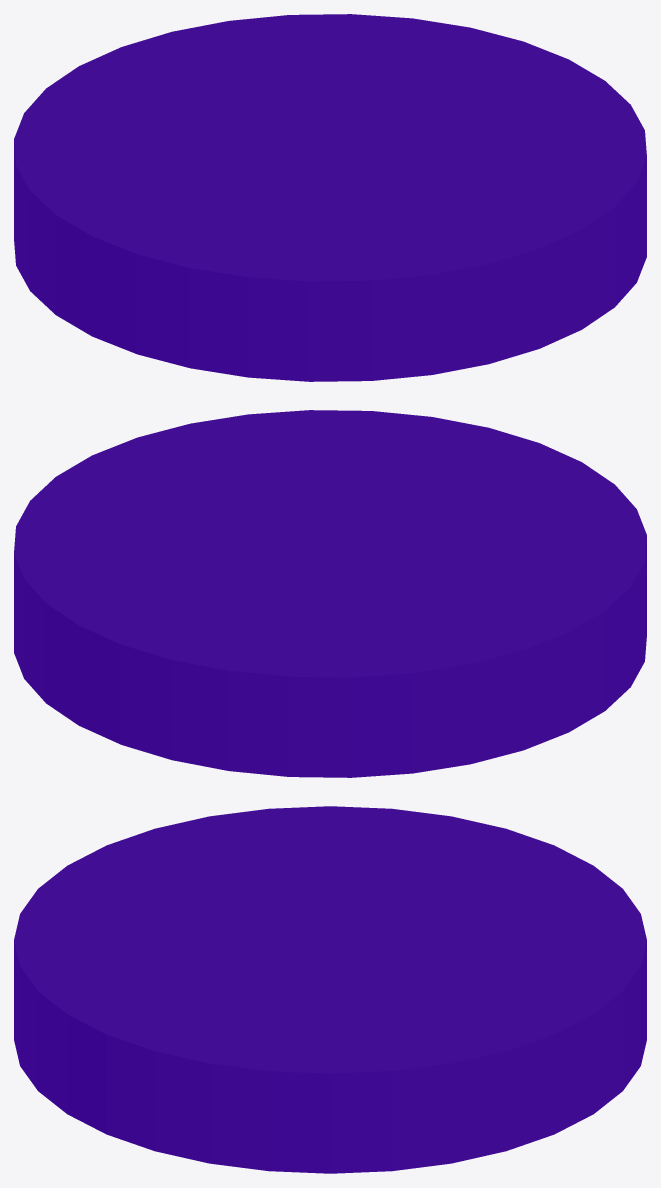
The model's file is map3.glb.
The picture shows the model from 3 angles, top to bottom: view 1: azimuth 30°, elevation 25°; view 2: azimuth 150°, elevation 25°; view 3: azimuth 270°, elevation 25°; orthographic projection.
Visible parts, largest first — view 1: Circle.001; view 2: Circle.001; view 3: Circle.001.
Boxes of the visible parts, x1,y1,x2,y2 form: Circle.001: (14,14,646,381); Circle.001: (14,410,646,777); Circle.001: (14,806,646,1173).
Bounding box in the file's own units: 186 × 44.27 × 186.
